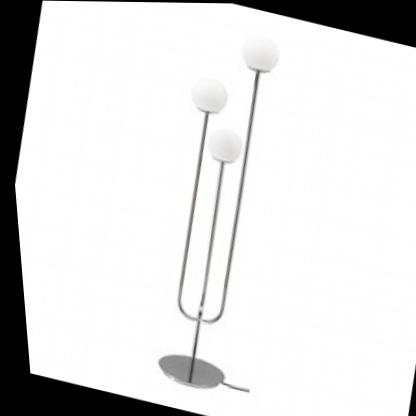Lamp: (104, 7, 307, 400)
